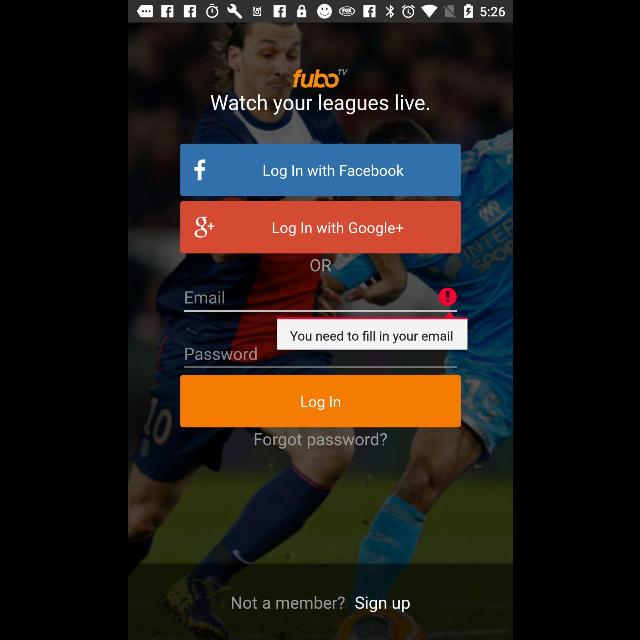backgroundimage: (128, 22, 512, 640)
icon: (438, 288, 456, 306)
image: (292, 70, 348, 88)
input: (184, 288, 456, 312), (184, 347, 456, 368)
text: (210, 94, 428, 116), (254, 432, 386, 450), (290, 331, 452, 344), (184, 348, 256, 360), (184, 292, 223, 304), (310, 260, 330, 272)
textbutton: (128, 564, 512, 640), (180, 200, 460, 253), (180, 375, 460, 427), (180, 144, 460, 196)
uppertaskbar: (128, 1, 512, 23)
